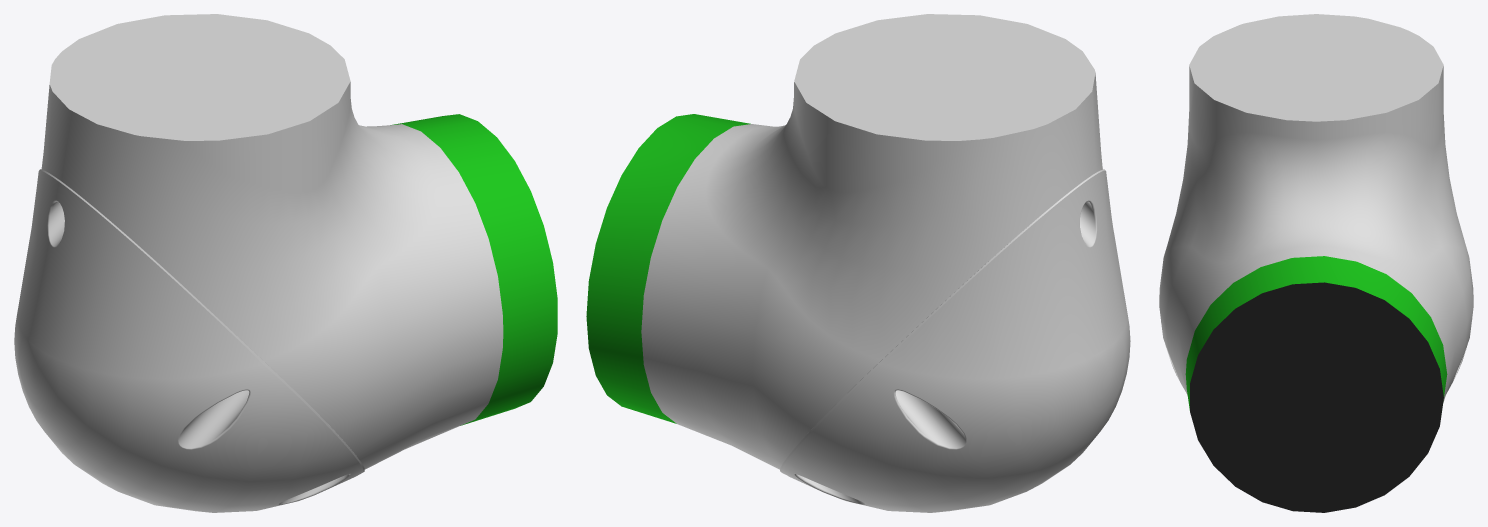
3 views of the same model, side by side, from view 1: azimuth 30°, elevation 25°; view 2: azimuth 150°, elevation 25°; view 3: azimuth 270°, elevation 25° (orthographic). The views are drawn at different scales.
Visible parts, largest first — view 1: CRX-10iAL_Axis5; view 2: CRX-10iAL_Axis5; view 3: CRX-10iAL_Axis5.
Part boxes in pixels (x1=…): CRX-10iAL_Axis5: x1=14, y1=14, x2=557, y2=512; CRX-10iAL_Axis5: x1=586, y1=14, x2=1130, y2=512; CRX-10iAL_Axis5: x1=1159, y1=14, x2=1473, y2=512.
Size of the model in its own units: 0.1576 by 0.1135 by 0.1429.
